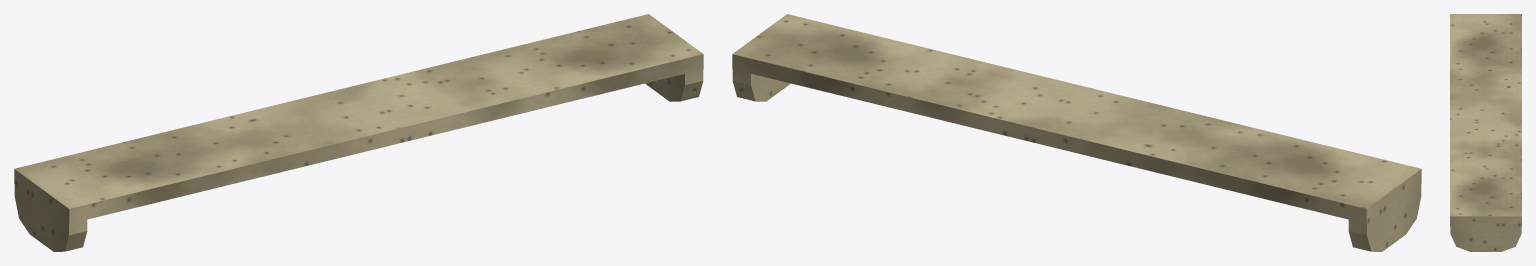
Rendered from CeliningLight.002.fbx.
3 renders of one model, left to right at view 1: azimuth 30°, elevation 25°; view 2: azimuth 150°, elevation 25°; view 3: azimuth 270°, elevation 25°, orthographic. The views are drawn at different scales.
Visible parts, largest first — view 1: CeliningLight.002; view 2: CeliningLight.002; view 3: CeliningLight.002.
Boxes of the visible parts, x1,y1,x2,y2 form: CeliningLight.002: [14, 14, 703, 251]; CeliningLight.002: [732, 14, 1421, 251]; CeliningLight.002: [1450, 14, 1521, 251].
Bounding box in the file's own units: 1.4 × 0.1144 × 0.2092.
1 material, 1 textured.
